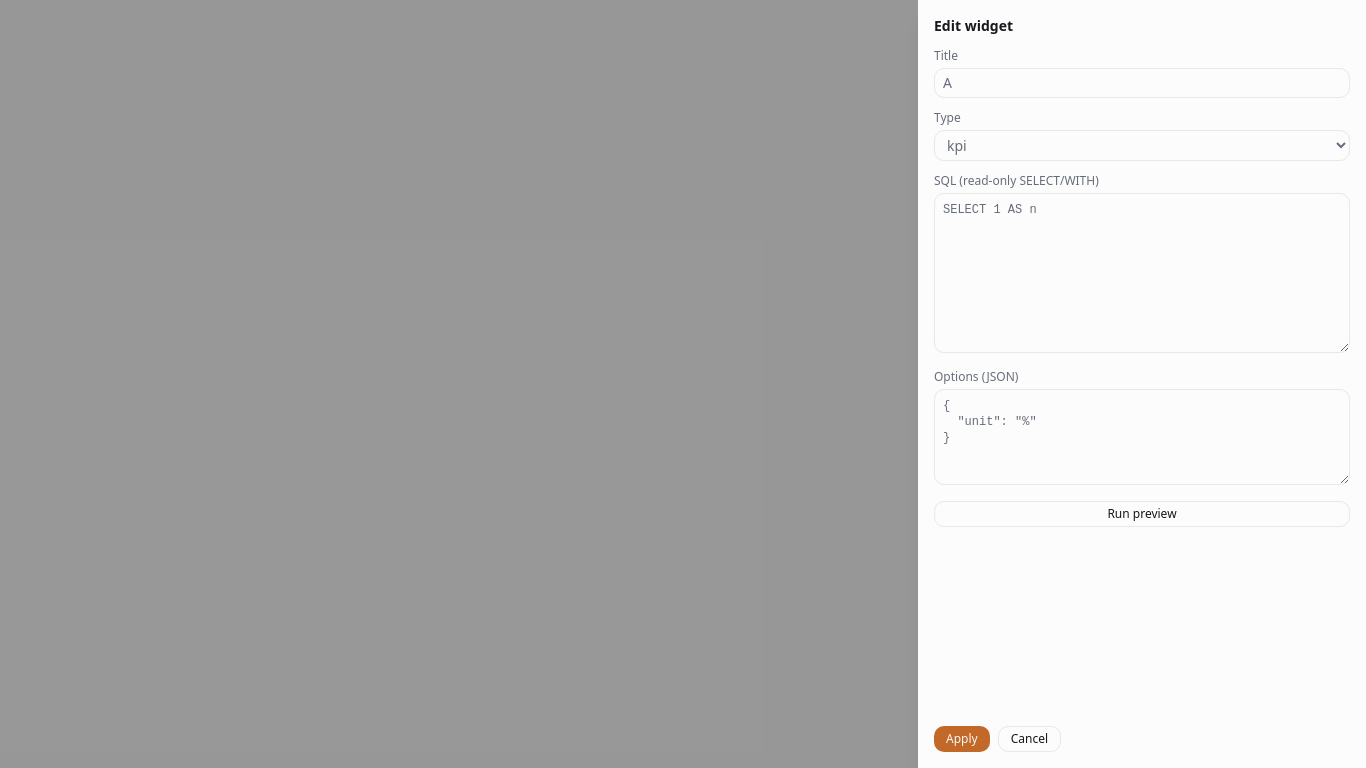
Test: WidgetEditorDrawer › preview error renders error line
This screenshot has width=1366, height=768.
Click the button "Run preview": (1142, 514) [934,501,1350,527]
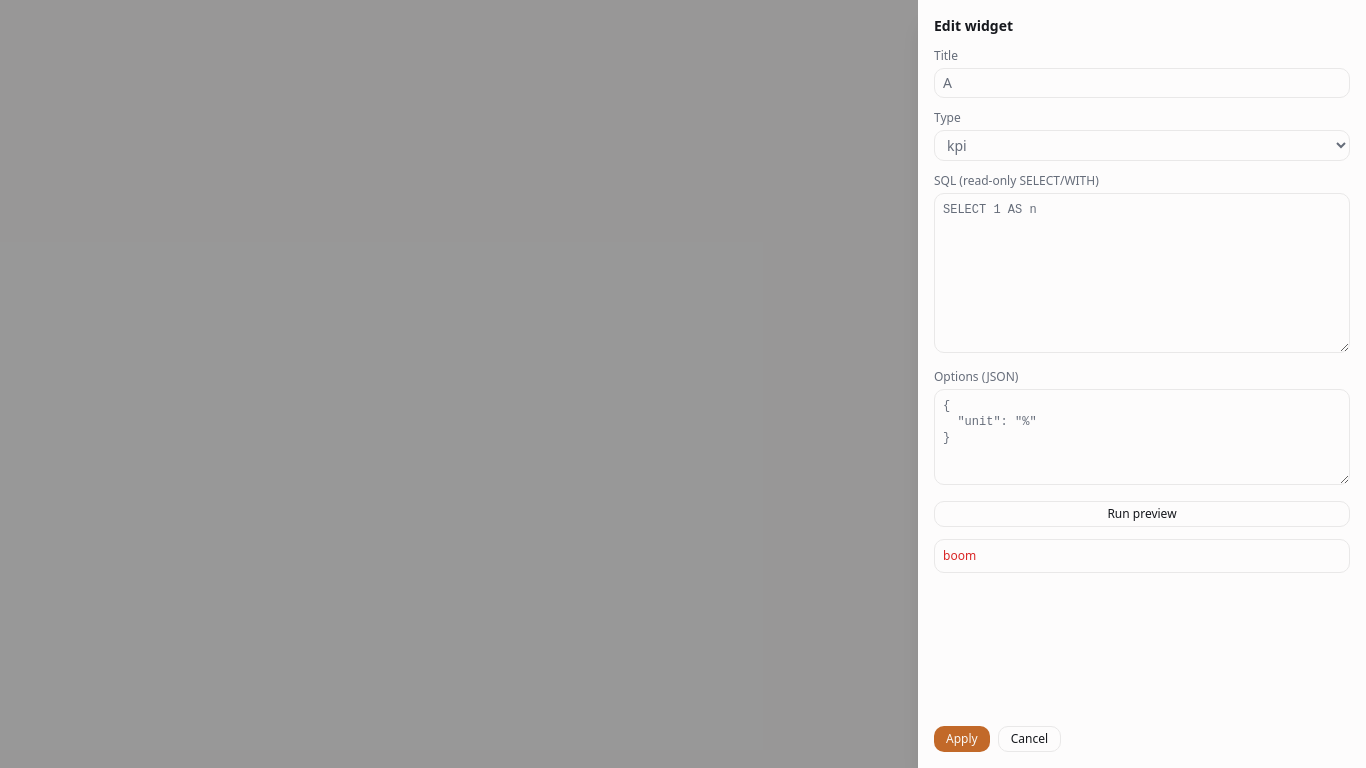
Expected: the text "boom" is shown, [943,547,976,564]
